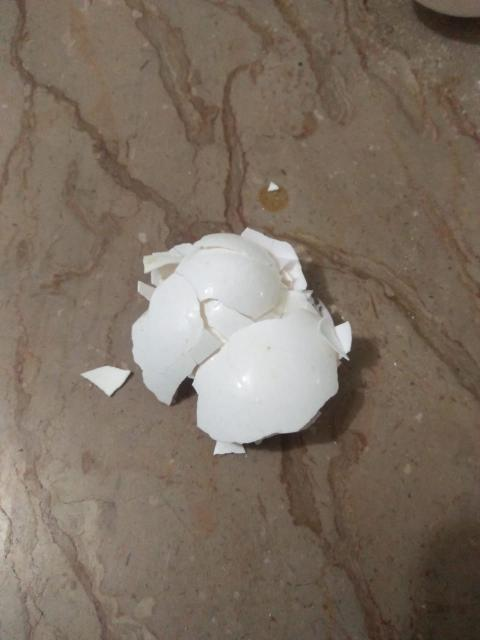Roto: (130, 227, 352, 456)
